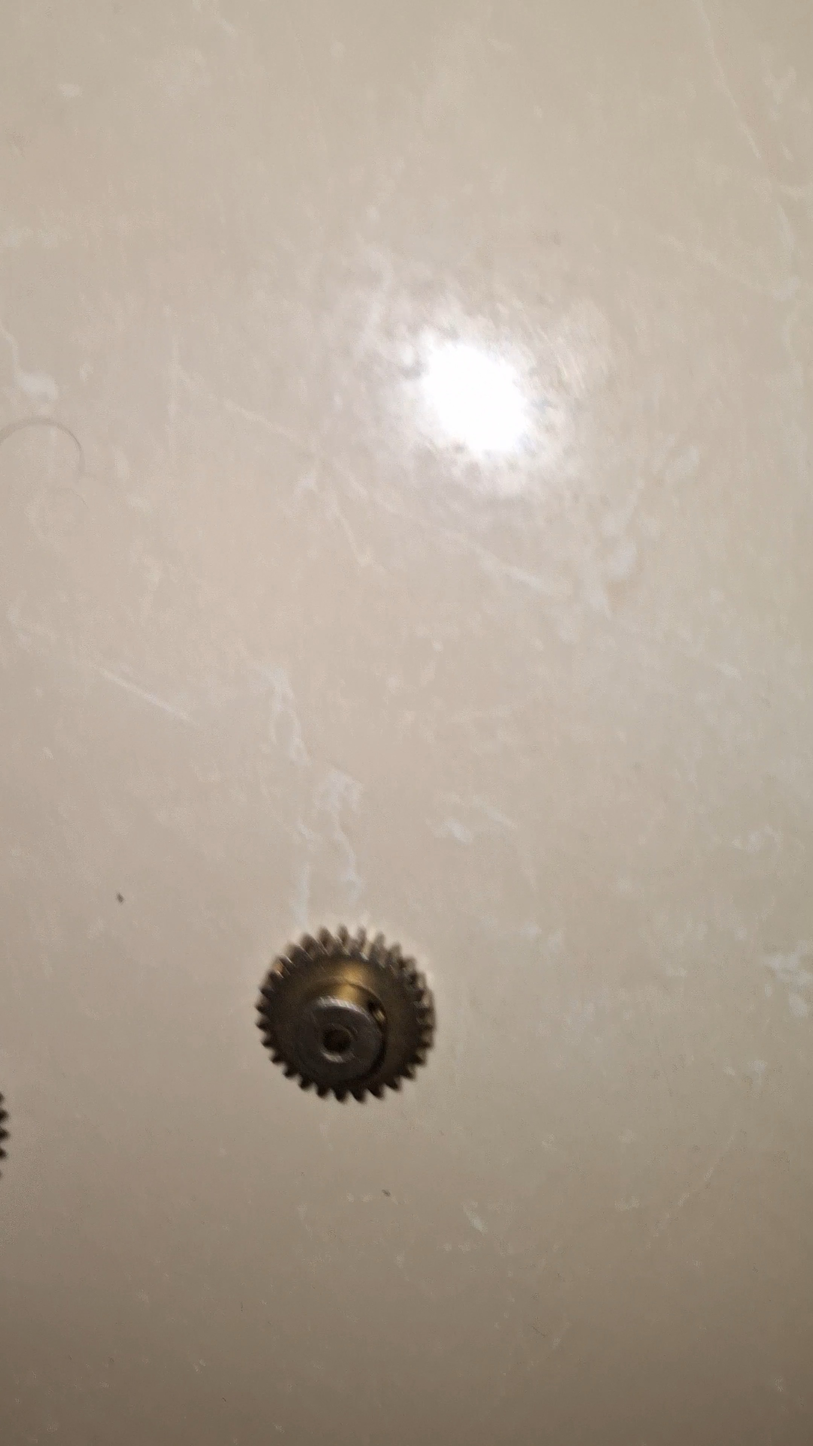spur gear: (257, 927, 433, 1100), (0, 1094, 8, 1161)
